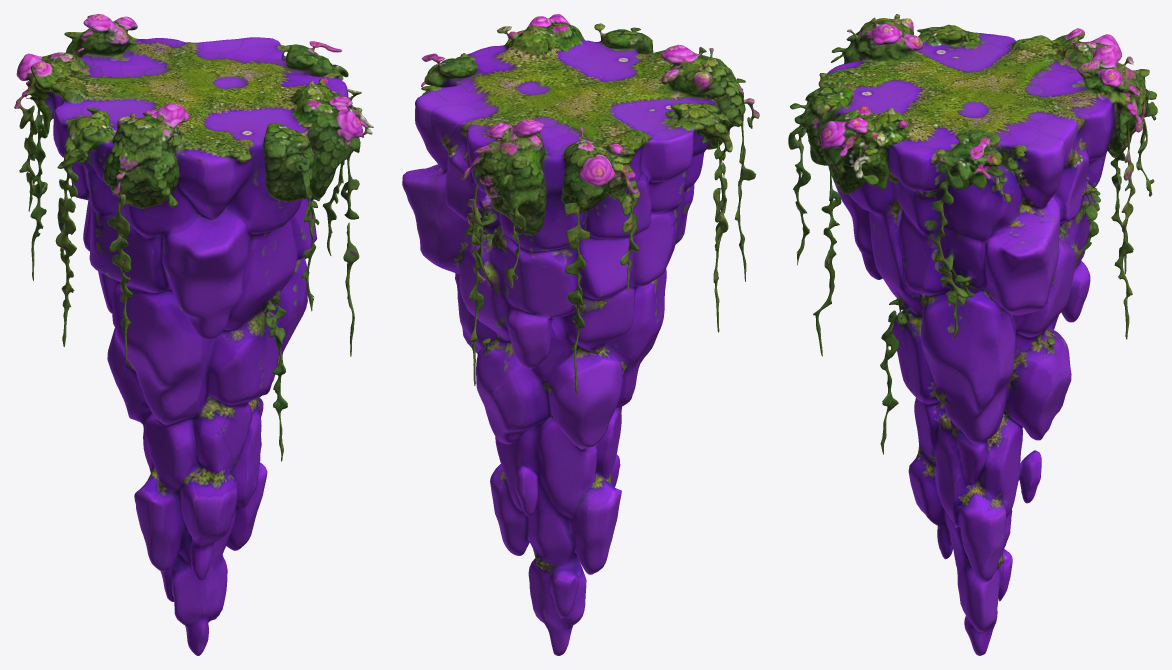
3 views of the same model, side by side, from view 1: azimuth 30°, elevation 25°; view 2: azimuth 150°, elevation 25°; view 3: azimuth 270°, elevation 25° (orthographic).
Visible parts, largest first — view 1: tripo_node_b15d3473-2df3-47bf-83d7-c91f1ae620d0; view 2: tripo_node_b15d3473-2df3-47bf-83d7-c91f1ae620d0; view 3: tripo_node_b15d3473-2df3-47bf-83d7-c91f1ae620d0.
Boxes of the visible parts, x1,y1,x2,y2 form: tripo_node_b15d3473-2df3-47bf-83d7-c91f1ae620d0: (14,14,373,655); tripo_node_b15d3473-2df3-47bf-83d7-c91f1ae620d0: (402,14,759,655); tripo_node_b15d3473-2df3-47bf-83d7-c91f1ae620d0: (788,14,1157,655).
Size of the model in its own units: 0.5039 by 0.9714 by 0.5467.
Materials: 1 (1 with a texture image).
